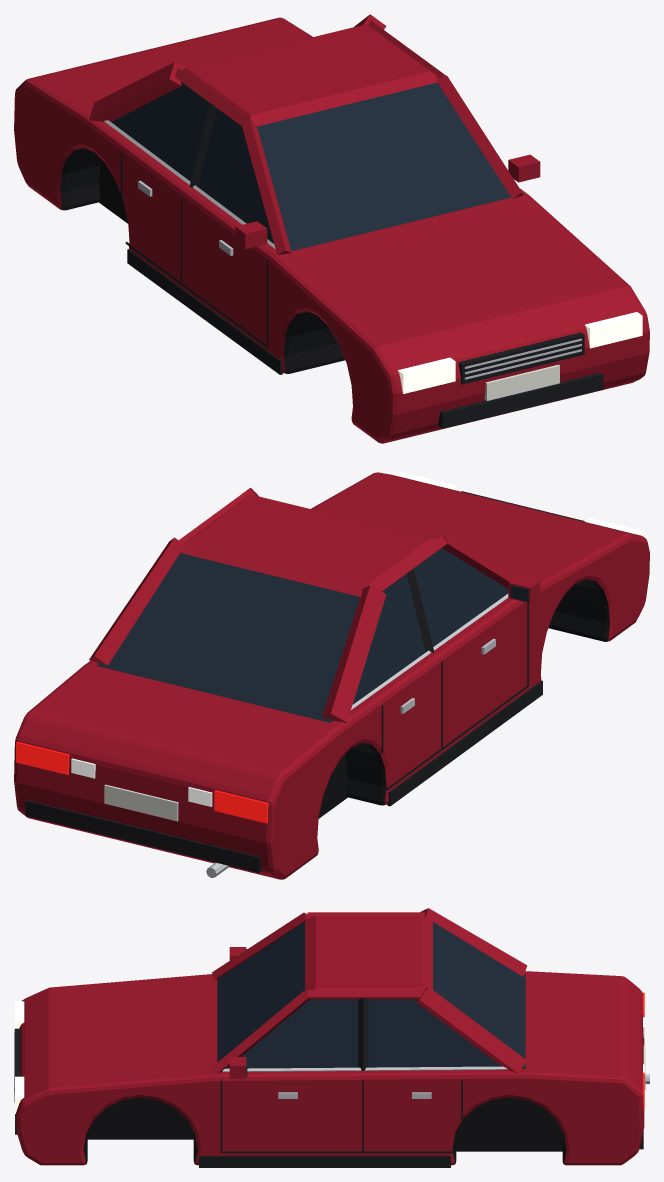
Rendered from veh_sedan_body.glb.
The picture shows the model from 3 angles, top to bottom: view 1: azimuth 30°, elevation 25°; view 2: azimuth 150°, elevation 25°; view 3: azimuth 270°, elevation 25°; orthographic projection. The views are drawn at different scales.
Visible parts, largest first — view 1: veh_sedan_body; view 2: veh_sedan_body; view 3: veh_sedan_body.
Part boxes in pixels (x1,y1,x2,y2): veh_sedan_body: (14, 14, 649, 443); veh_sedan_body: (14, 472, 649, 879); veh_sedan_body: (14, 908, 649, 1167).
Bounding box in the file's own units: 2.02 × 1.33 × 4.57.
